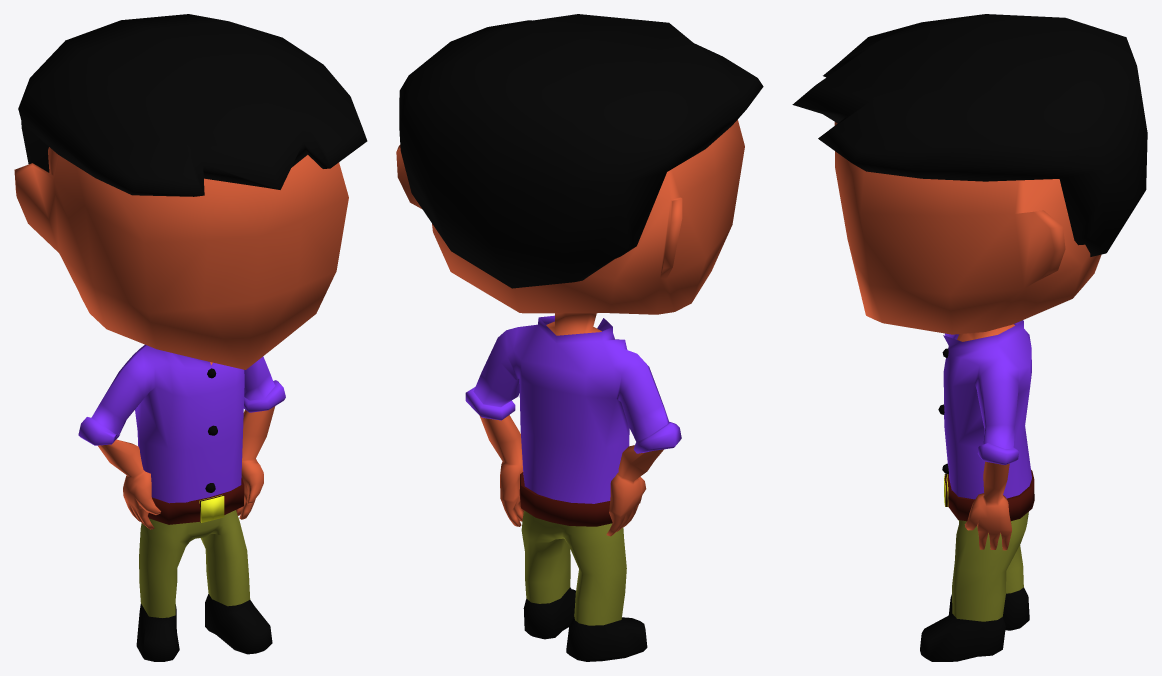
File: Male NPC - purple shirt,green pants.FBX
The picture shows the model from 3 angles, left to right: view 1: azimuth 30°, elevation 25°; view 2: azimuth 150°, elevation 25°; view 3: azimuth 270°, elevation 25°; orthographic projection. The views are drawn at different scales.
Parts seen in each view (by area): view 1: Group001, BrockLee005; view 2: Group001, BrockLee005; view 3: Group001, BrockLee005.
Part boxes in pixels (box(x1,y1,x2,y2)): Group001: box(14, 14, 367, 661); BrockLee005: box(98, 368, 275, 529); Group001: box(396, 14, 763, 661); BrockLee005: box(479, 415, 663, 536); Group001: box(792, 14, 1147, 661); BrockLee005: box(938, 348, 1034, 550).
Bounding box in the file's own units: 89.94 × 97.6 × 180.
